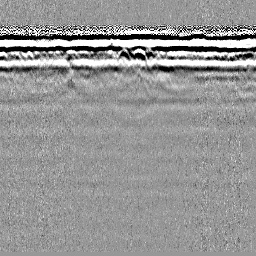cavity: (115, 45, 132, 61)
